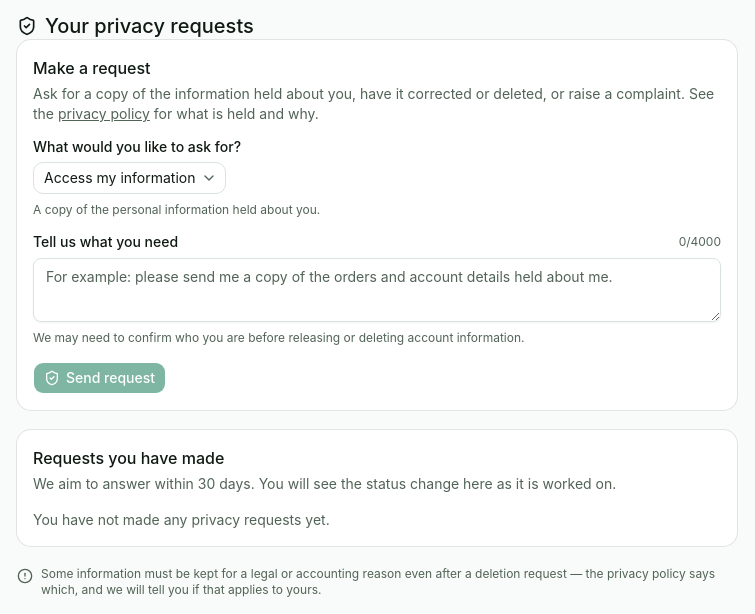
Test: the customer privacy request page › will not send something nobody could act on
This screenshot has width=755, height=614.
Type "help" into the text box labelled "Tell us what you need" at (377, 290), box [33,258,721,322]
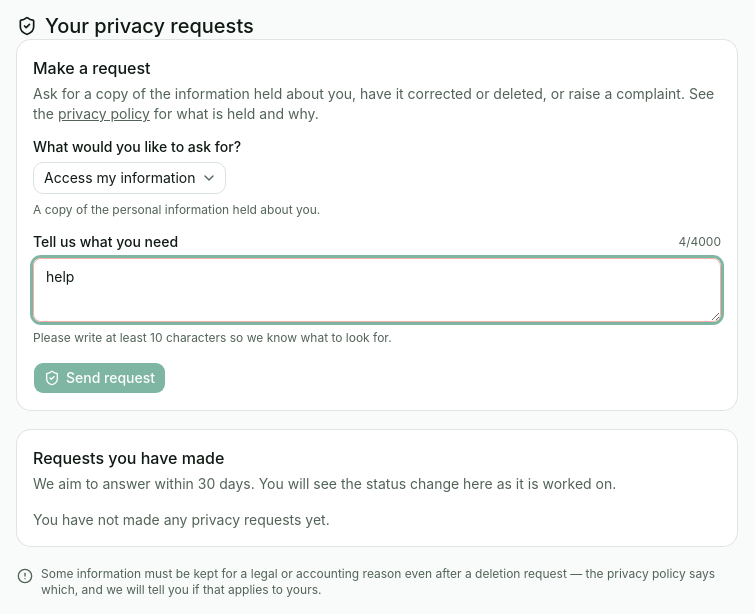
Expected: the button "Send request" is disabled, [33,362,166,394]
Result: the text "at least 10 characters" is shown at [33,330,392,345]
